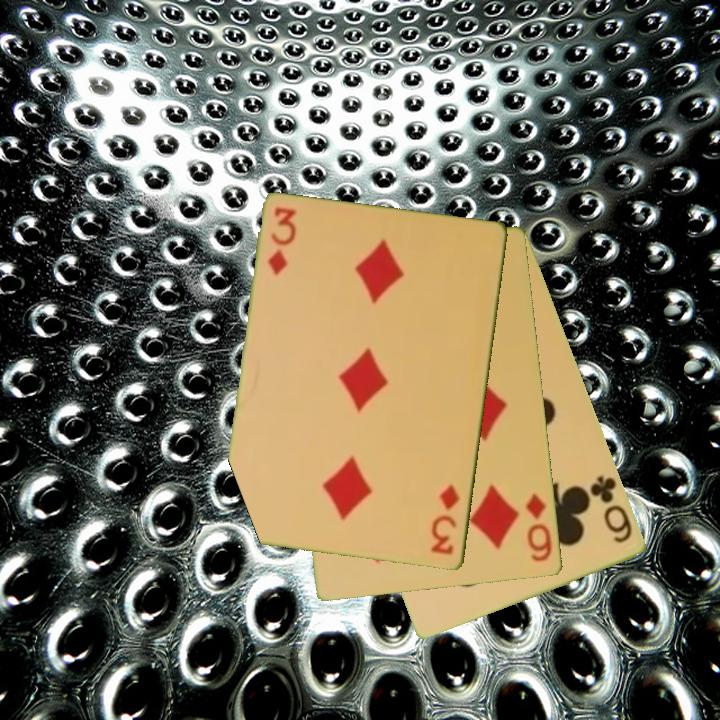3d: (427, 481, 463, 558), (265, 204, 300, 278)
6c: (587, 472, 636, 547)
6d: (523, 490, 556, 565)
